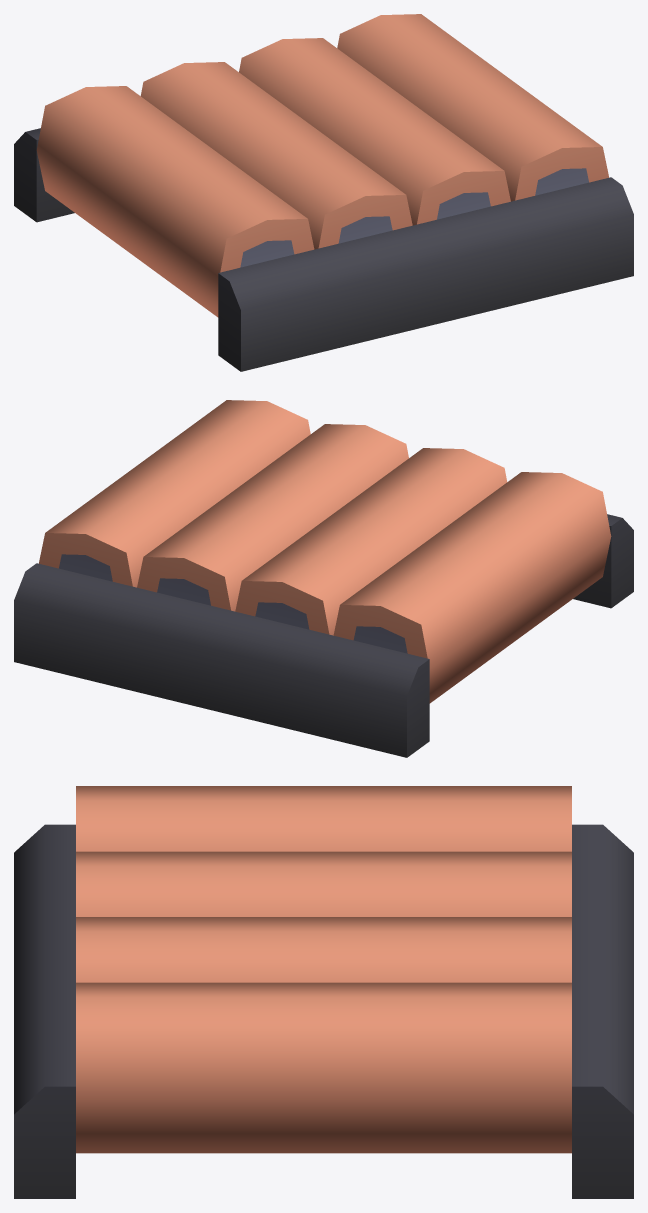
Rendered from conveyor-bars-sides.obj.
3 views of the same model, one above another, from view 1: azimuth 30°, elevation 25°; view 2: azimuth 150°, elevation 25°; view 3: azimuth 270°, elevation 25° (orthographic). The views are drawn at different scales.
Visible parts, largest first — view 1: conveyor-bars-sides; view 2: conveyor-bars-sides; view 3: conveyor-bars-sides.
Boxes of the visible parts, x1=… form: conveyor-bars-sides: x1=14, y1=14, x2=633, y2=371; conveyor-bars-sides: x1=14, y1=400, x2=633, y2=757; conveyor-bars-sides: x1=14, y1=786, x2=633, y2=1198.
Size of the model in its own units: 1 by 0.3 by 1.
